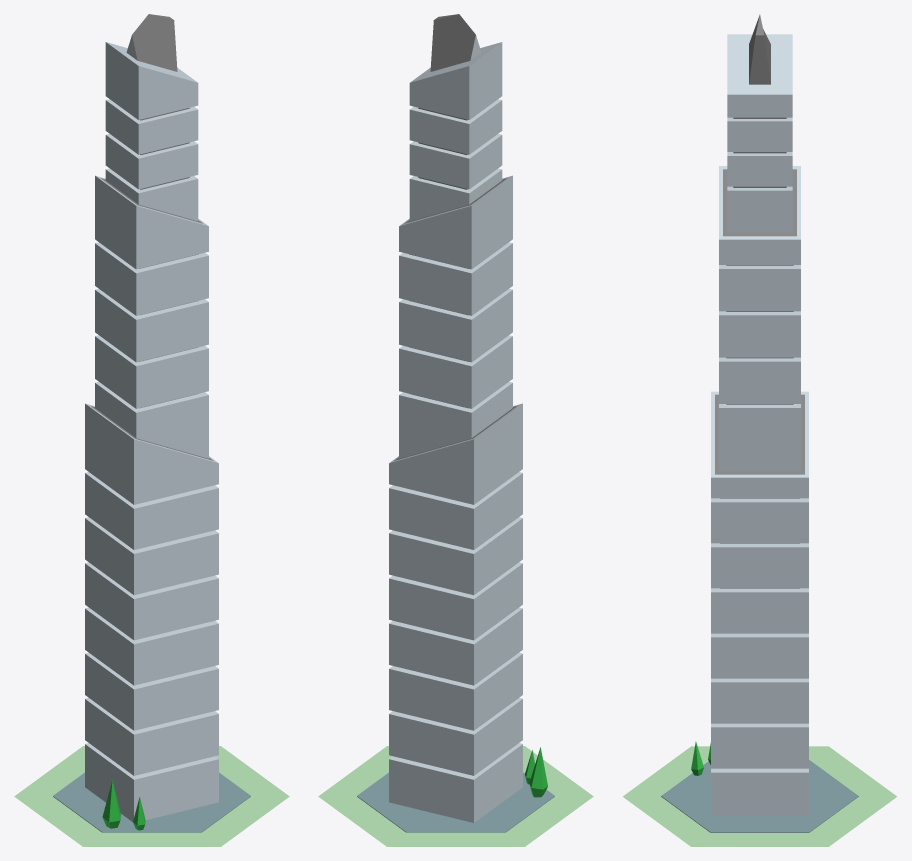
File: Temp_Building9.fbx
3 views of the same model, side by side, from view 1: azimuth 30°, elevation 25°; view 2: azimuth 150°, elevation 25°; view 3: azimuth 270°, elevation 25° (orthographic).
Parts seen in each view (by area): view 1: Cube.002; view 2: Cube.002; view 3: Cube.002.
Part boxes in pixels (bbox=[...]): Cube.002: bbox=[14, 14, 289, 846]; Cube.002: bbox=[318, 14, 593, 846]; Cube.002: bbox=[622, 14, 897, 846].
Bounding box in the file's own units: 165 × 596 × 190.
